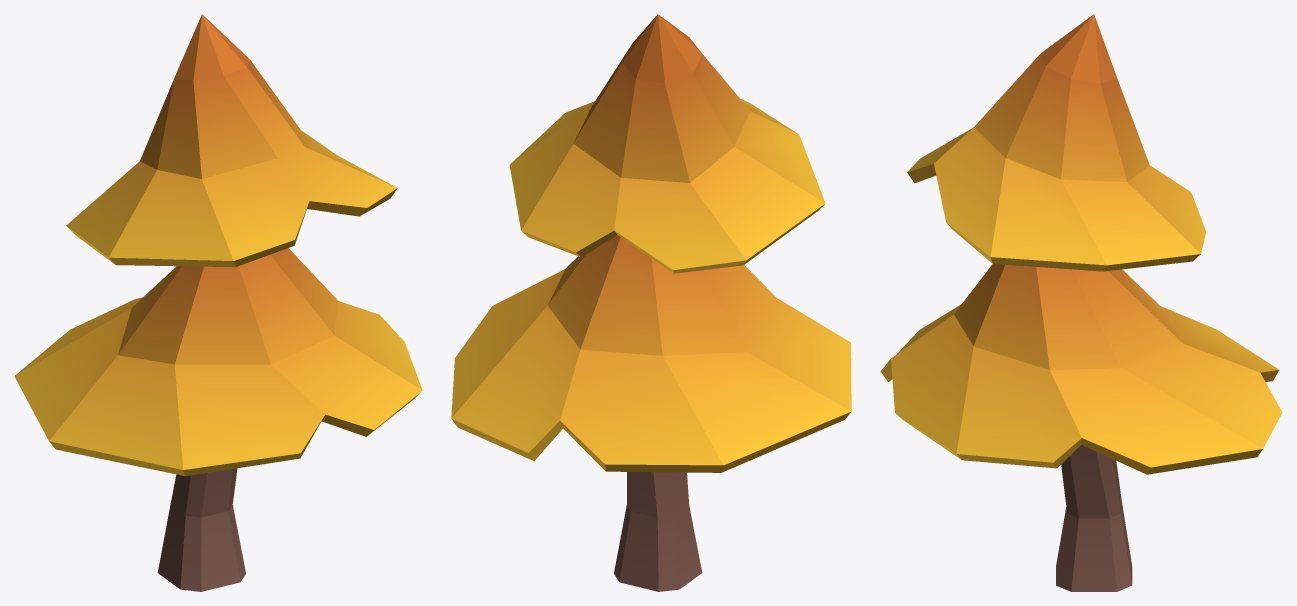
The model's file is AutumnPine7.fbx.
The picture shows the model from 3 angles, left to right: view 1: azimuth 30°, elevation 25°; view 2: azimuth 150°, elevation 25°; view 3: azimuth 270°, elevation 25°; orthographic projection.
Parts seen in each view (by area): view 1: AutumnPine7; view 2: AutumnPine7; view 3: AutumnPine7.
Boxes of the visible parts, x1=… form: AutumnPine7: x1=14, y1=14, x2=422, y2=591; AutumnPine7: x1=451, y1=14, x2=851, y2=591; AutumnPine7: x1=880, y1=14, x2=1282, y2=591.
Size of the model in its own units: 308 by 463 by 300.
